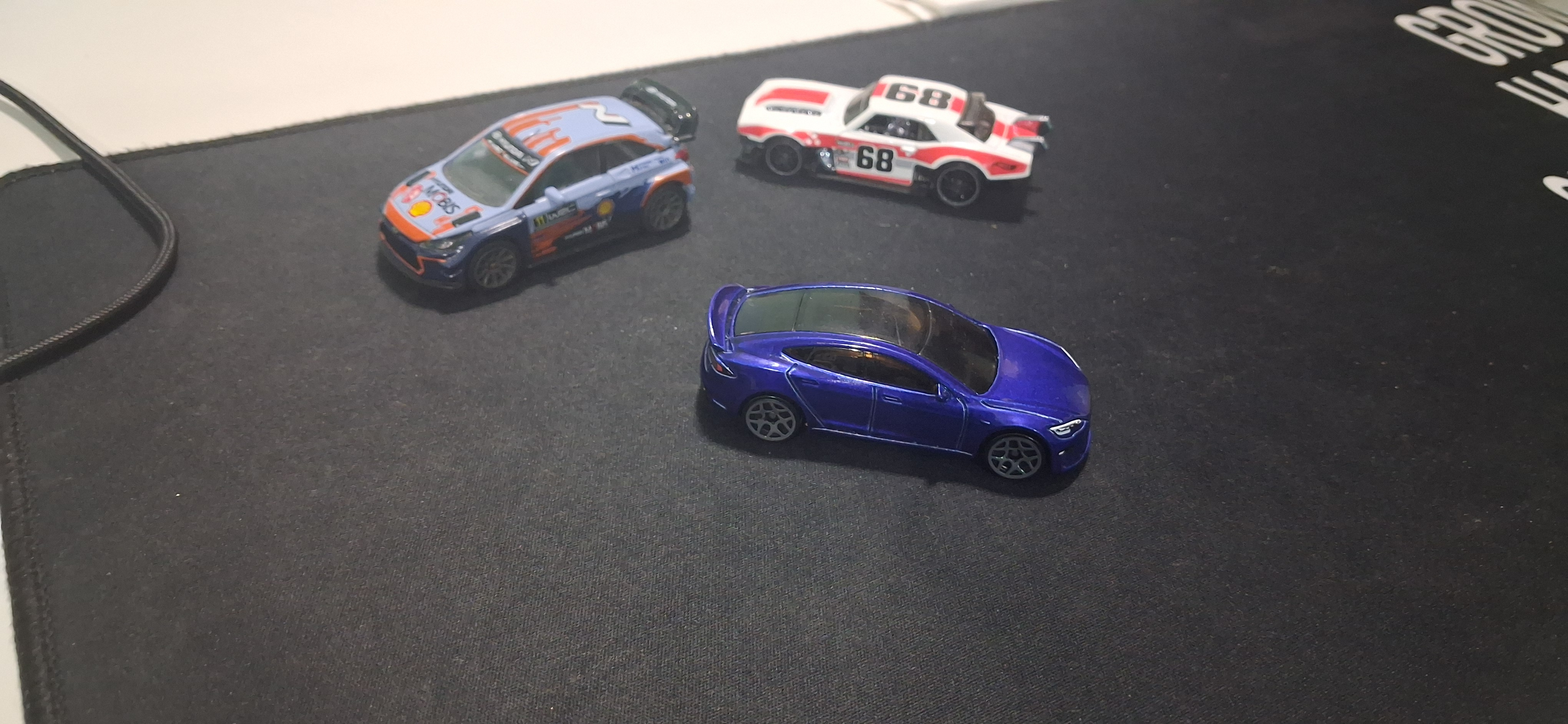Camaro: (681, 54, 1082, 238)
Hyundai_I20_WRC: (365, 19, 701, 320)
Tesla_Model_S_Plaid: (658, 292, 1121, 512)
